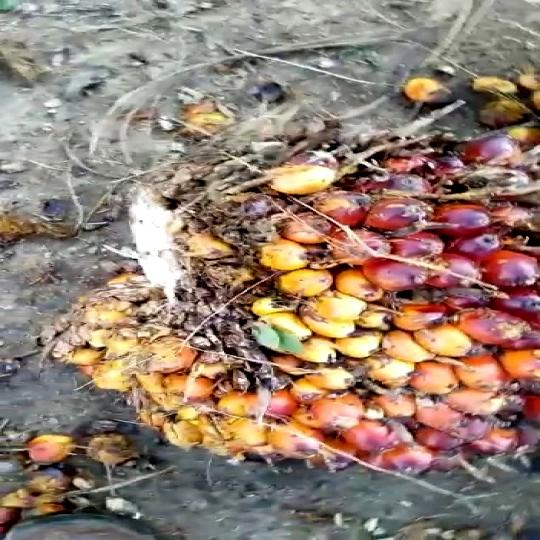masak: (50, 63, 540, 485)
